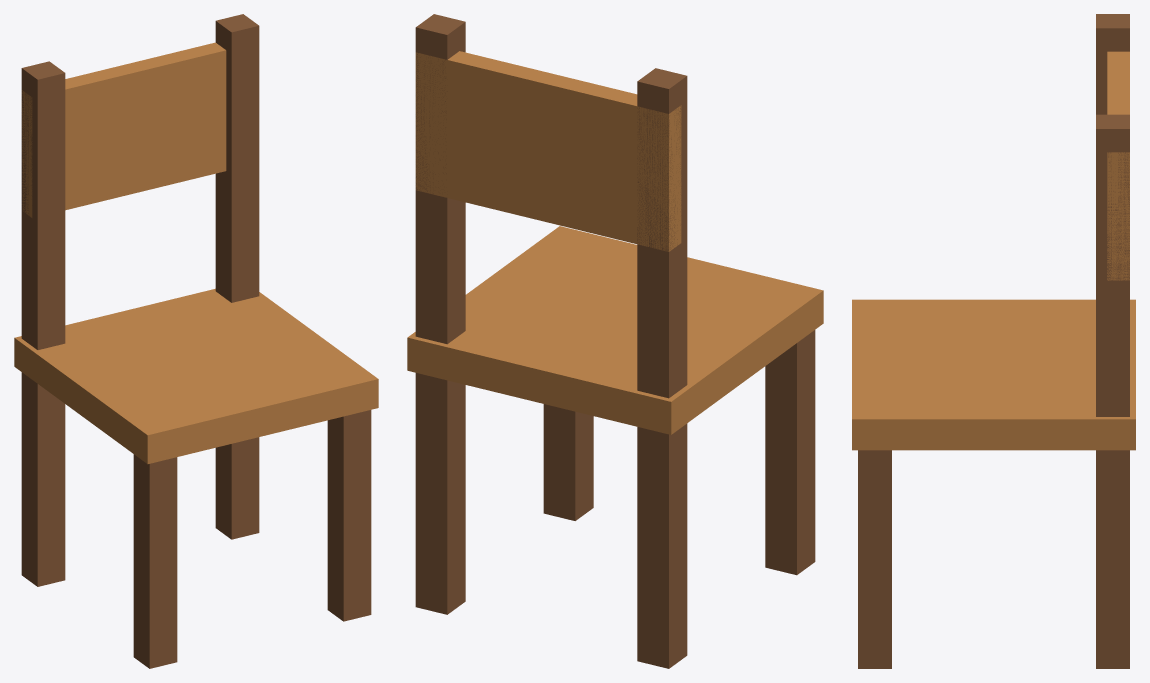
File: chair.glb
3 renders of one model, left to right at view 1: azimuth 30°, elevation 25°; view 2: azimuth 150°, elevation 25°; view 3: azimuth 270°, elevation 25°, orthographic. The views are drawn at different scales.
Visible parts, largest first — view 1: chair; view 2: chair; view 3: chair.
Boxes of the visible parts, box(x1,y1,x2,y2) form: chair: box(14, 14, 378, 668); chair: box(407, 14, 823, 668); chair: box(852, 14, 1135, 668).
Bounding box in the file's own units: 0.5 × 1.05 × 0.5.
